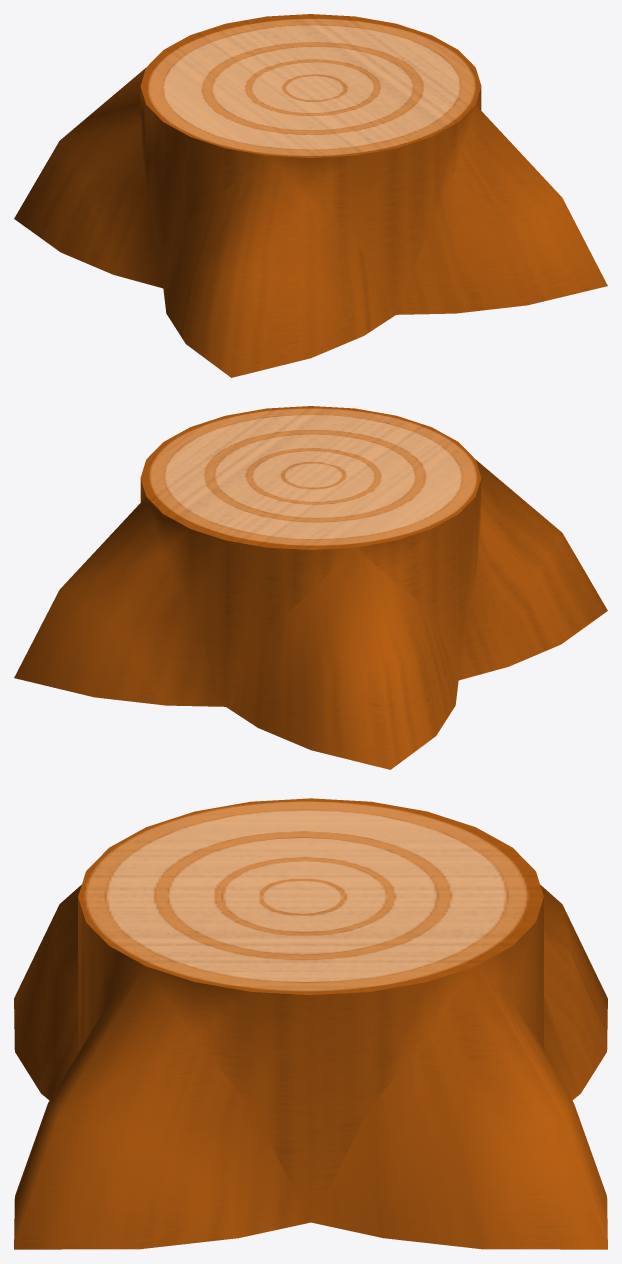
Rendered from stubble.fbx.
3 renders of one model, top to bottom at view 1: azimuth 30°, elevation 25°; view 2: azimuth 150°, elevation 25°; view 3: azimuth 270°, elevation 25°, orthographic. The views are drawn at different scales.
Parts seen in each view (by area): view 1: wood_ne00, wood_ne01, wood_ne02, wood_ne04; view 2: wood_ne00, wood_ne04, wood_ne03, wood_ne01; view 3: wood_ne00, wood_ne03, wood_ne02, wood_ne01, wood_ne04.
Boxes of the visible parts, <box> form: wood_ne00: <box>140,14,481,314</box>; wood_ne01: <box>163,156,395,377</box>; wood_ne02: <box>396,105,607,314</box>; wood_ne04: <box>14,68,163,288</box>; wood_ne00: <box>140,406,481,706</box>; wood_ne04: <box>226,548,458,769</box>; wood_ne03: <box>14,497,225,706</box>; wood_ne01: <box>458,460,607,680</box>; wood_ne00: <box>78,798,543,1221</box>; wood_ne03: <box>311,966,607,1249</box>; wood_ne02: <box>14,966,310,1249</box>; wood_ne01: <box>14,884,81,1100</box>; wood_ne04: <box>540,884,607,1100</box>.
Bounding box in the file's own units: 4.26 × 1.8 × 4.26.
